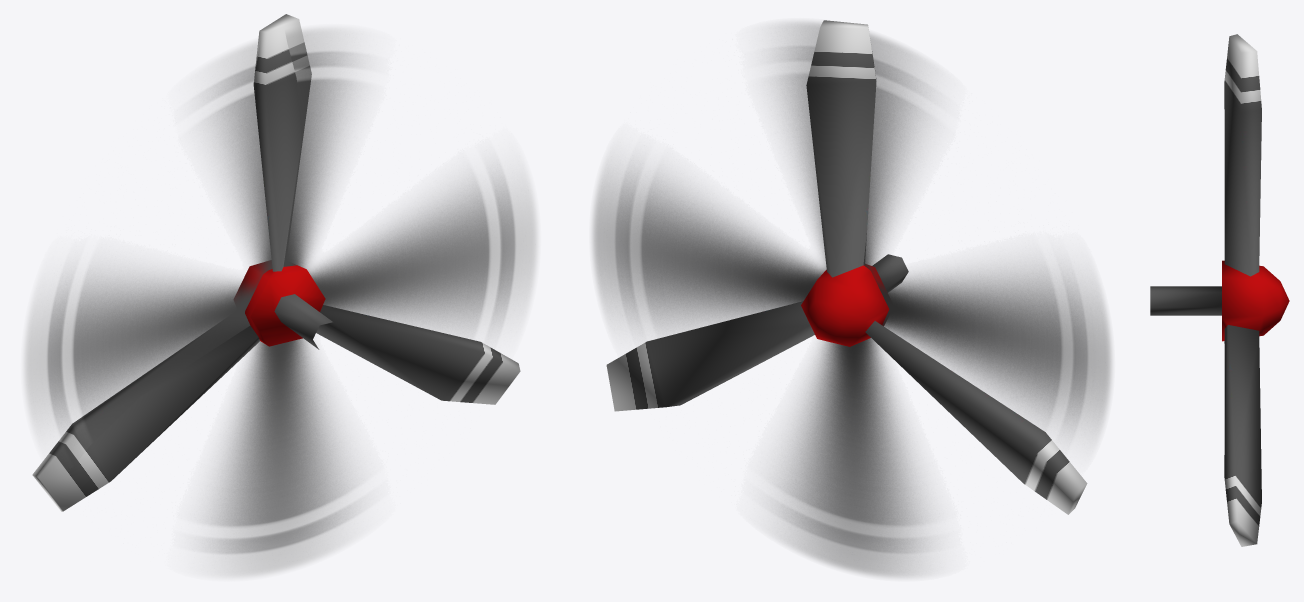
File: Plane_Prop.glb
3 renders of one model, left to right at view 1: azimuth 30°, elevation 25°; view 2: azimuth 150°, elevation 25°; view 3: azimuth 270°, elevation 25°, orthographic. The views are drawn at different scales.
Parts seen in each view (by area): view 1: Prop1Blur, PlaneProp; view 2: Prop1Blur, PlaneProp; view 3: PlaneProp, Prop1Blur.
Boxes of the visible parts, x1,y1,x2,y2 form: Prop1Blur: (23, 27, 538, 577); PlaneProp: (32, 14, 520, 511); Prop1Blur: (592, 21, 1112, 577); PlaneProp: (606, 20, 1087, 514); PlaneProp: (1150, 34, 1289, 546); Prop1Blur: (1150, 261, 1222, 340).
Size of the model in its own units: 0.2428 by 0.2428 by 0.0589.
2 materials, 2 textured.
